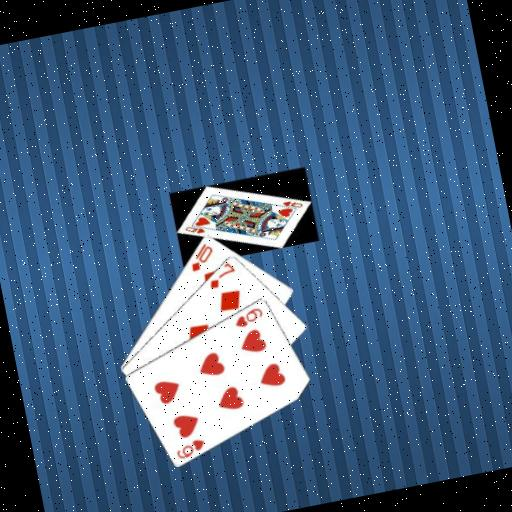10D: (184, 239, 218, 274)
6H: (230, 303, 267, 330), (172, 434, 209, 461)
7D: (203, 259, 240, 291)
